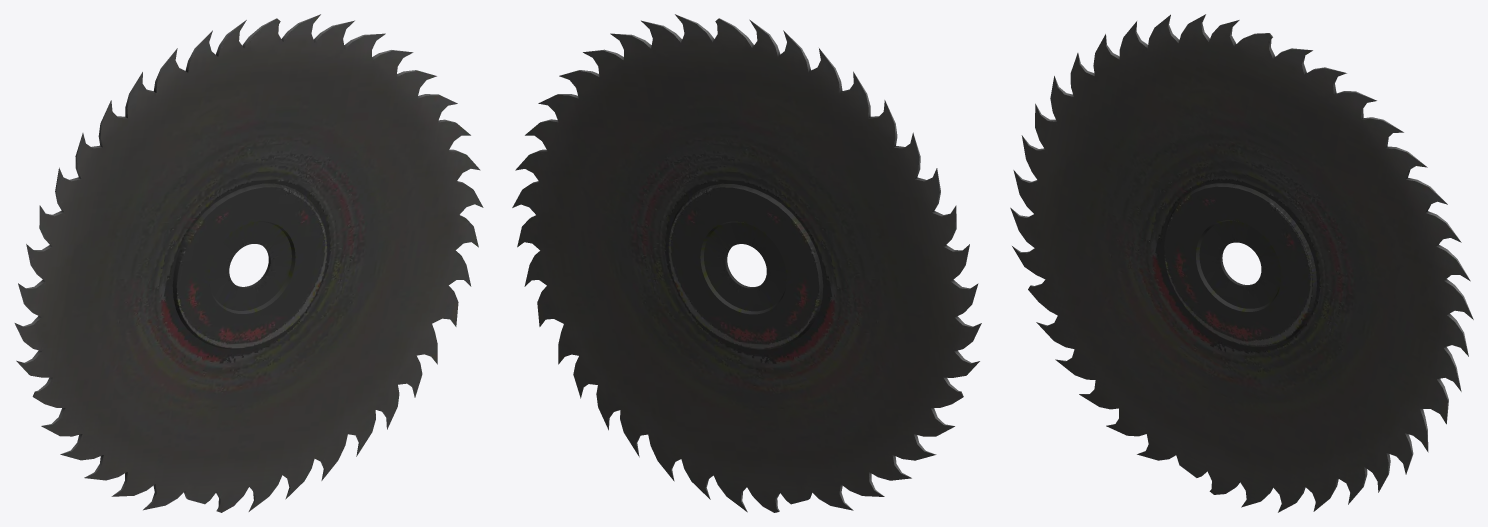
3 views of the same model, side by side, from view 1: azimuth 30°, elevation 25°; view 2: azimuth 150°, elevation 25°; view 3: azimuth 330°, elevation 25° (orthographic).
Visible parts, largest first — view 1: body0_model0_lod0_mesh0; view 2: body0_model0_lod0_mesh0; view 3: body0_model0_lod0_mesh0.
Boxes of the visible parts, <box> form: body0_model0_lod0_mesh0: <box>14,14,483,512</box>; body0_model0_lod0_mesh0: <box>512,14,981,512</box>; body0_model0_lod0_mesh0: <box>1010,14,1473,512</box>.
Size of the model in its own units: 190 by 191 by 4.7.
1 material, 1 textured.
